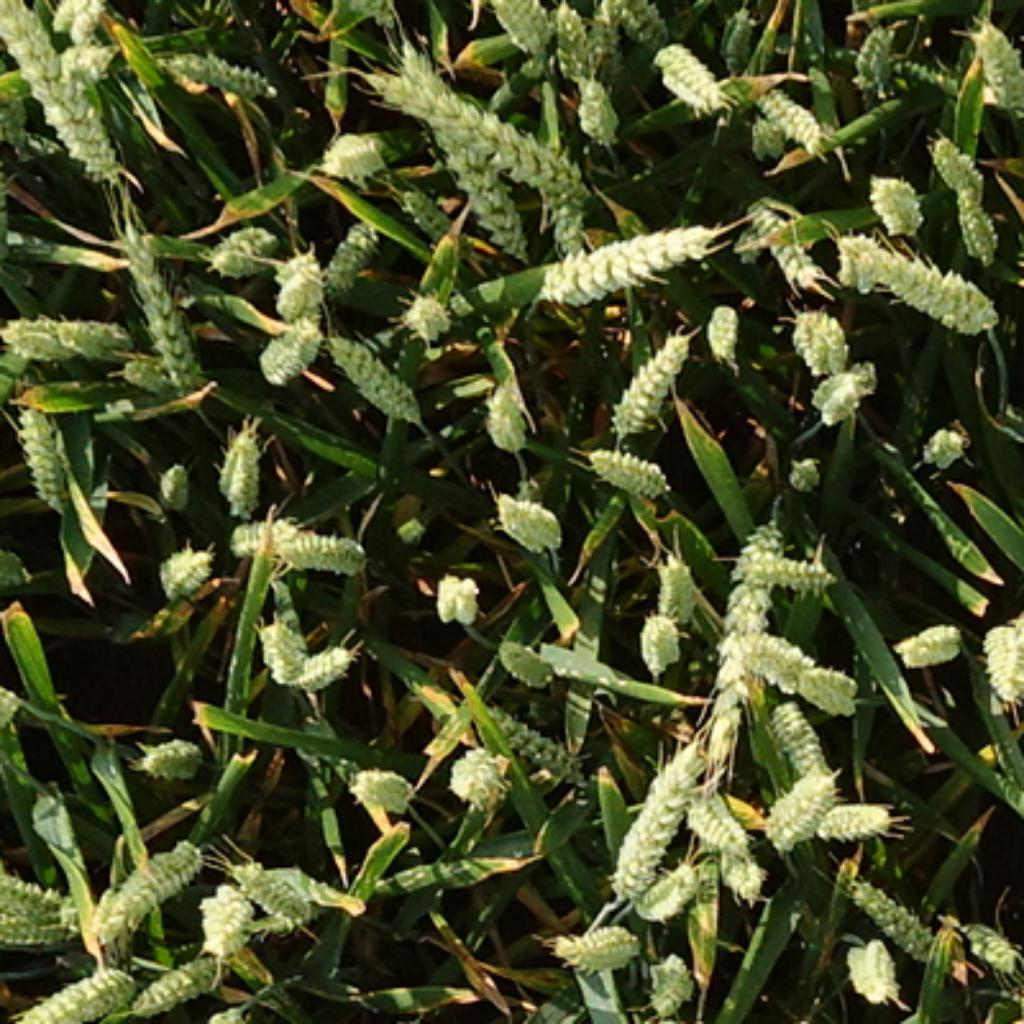0-0: (353, 64, 593, 209), (387, 46, 533, 276), (701, 514, 788, 793), (112, 220, 215, 409), (12, 20, 128, 174), (832, 225, 1003, 325), (545, 212, 724, 306), (609, 734, 701, 890), (721, 616, 872, 711), (89, 826, 204, 931), (837, 862, 944, 957), (5, 952, 143, 1024), (604, 320, 693, 430), (325, 330, 424, 424), (483, 696, 583, 780), (236, 857, 341, 931), (156, 33, 281, 94), (12, 396, 81, 506), (739, 197, 824, 286), (2, 860, 81, 944), (765, 770, 844, 852), (212, 417, 273, 522), (317, 212, 391, 296), (537, 916, 642, 975), (683, 780, 755, 865), (391, 186, 476, 258), (650, 28, 727, 104), (253, 314, 330, 389), (133, 944, 220, 1008), (279, 627, 363, 693), (268, 527, 381, 576), (737, 547, 847, 596), (765, 698, 834, 775), (632, 849, 711, 916), (253, 606, 320, 683), (581, 435, 668, 494), (965, 15, 1024, 102), (491, 486, 565, 555), (785, 296, 852, 371), (975, 599, 1024, 698), (757, 81, 824, 153), (952, 179, 1003, 273), (926, 128, 988, 204), (204, 217, 279, 279), (806, 350, 875, 417), (844, 939, 908, 1011), (5, 314, 99, 363), (274, 247, 336, 321), (197, 872, 256, 949), (51, 309, 128, 368), (541, 150, 582, 258), (445, 732, 509, 801), (808, 788, 898, 837), (949, 906, 1021, 967), (471, 2, 560, 51), (0, 0, 54, 80), (714, 839, 773, 911), (227, 514, 309, 565), (581, 80, 635, 157), (478, 378, 532, 455), (849, 15, 906, 87), (151, 535, 215, 596), (350, 760, 422, 814), (317, 120, 389, 174), (862, 163, 924, 225), (133, 732, 207, 783), (583, 2, 637, 71), (890, 619, 962, 670), (716, 7, 765, 81), (609, 2, 678, 51), (427, 565, 483, 624), (647, 952, 696, 1018), (496, 642, 558, 693), (634, 601, 683, 665), (557, 12, 600, 81), (652, 547, 698, 611), (913, 412, 970, 463), (396, 284, 453, 332), (514, 476, 545, 558), (40, 2, 115, 35), (706, 304, 747, 360), (184, 995, 256, 1024), (156, 455, 194, 506), (785, 458, 828, 501), (744, 122, 785, 163)
